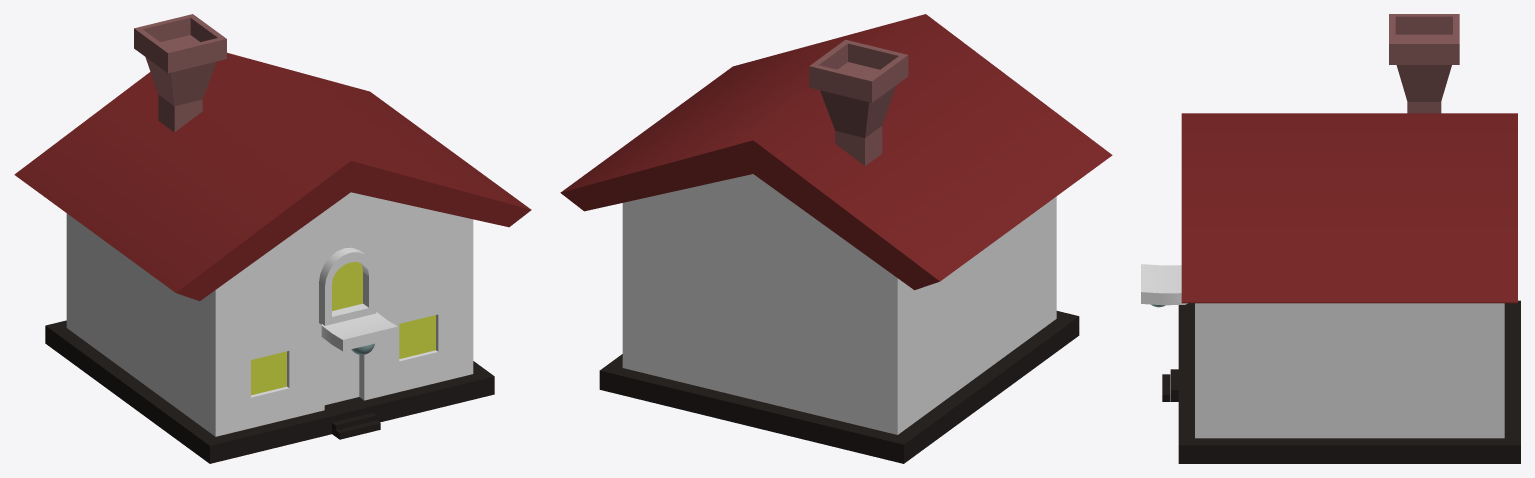
The model's file is House_1.fbx.
3 views of the same model, side by side, from view 1: azimuth 30°, elevation 25°; view 2: azimuth 150°, elevation 25°; view 3: azimuth 270°, elevation 25° (orthographic). The views are drawn at different scales.
Visible parts, largest first — view 1: polySurface11; view 2: polySurface11; view 3: polySurface11.
Boxes of the visible parts, <box> form: polySurface11: <box>14,14,531,463</box>; polySurface11: <box>560,14,1112,463</box>; polySurface11: <box>1141,14,1520,463</box>.
Bounding box in the file's own units: 31.09 × 26.9 × 27.61.
